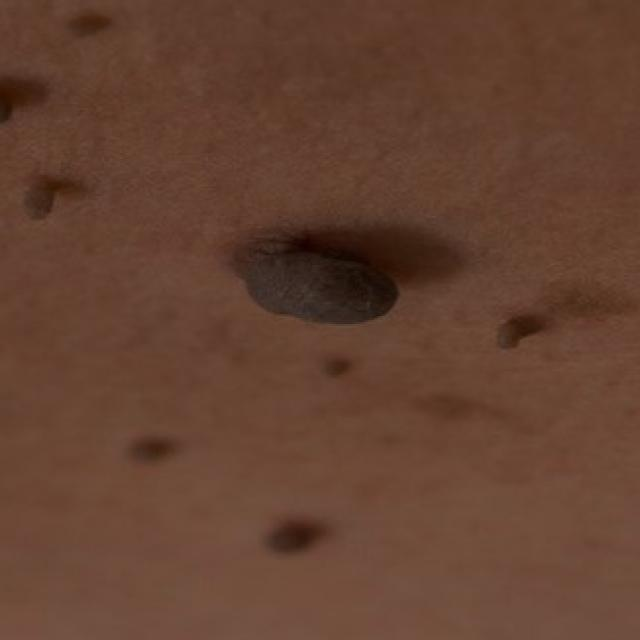wart: (179, 198, 475, 334), (244, 495, 352, 569), (485, 293, 569, 363), (14, 158, 94, 228), (0, 61, 61, 131), (116, 420, 192, 475), (61, 0, 122, 41), (316, 348, 367, 390)
